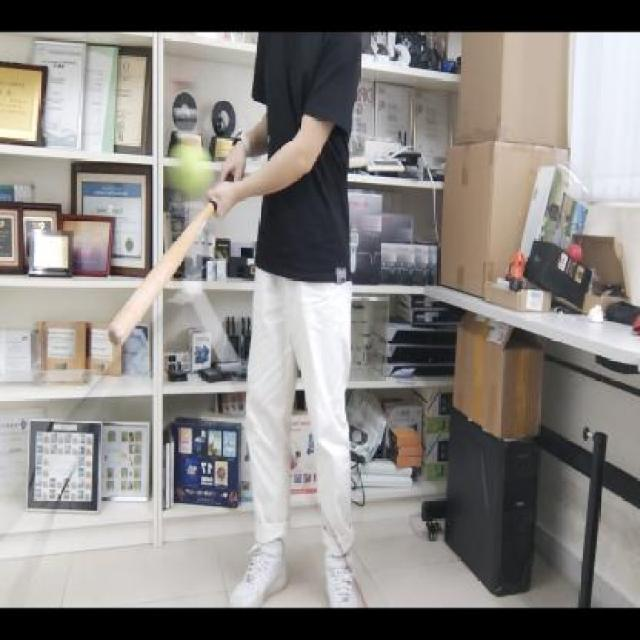baseball: (161, 142, 217, 202)
